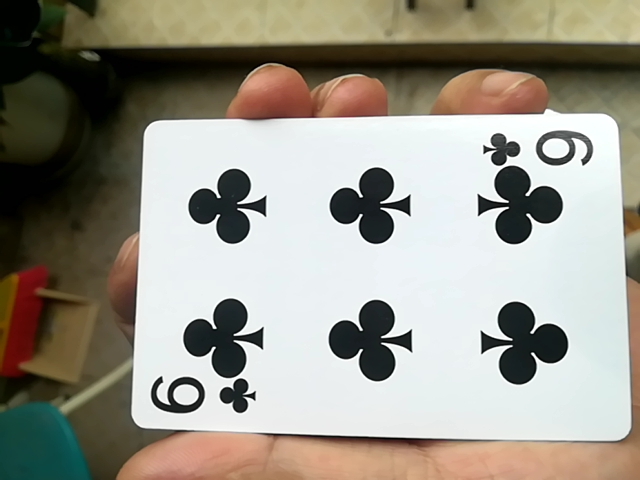mh 6: (124, 105, 625, 455)
